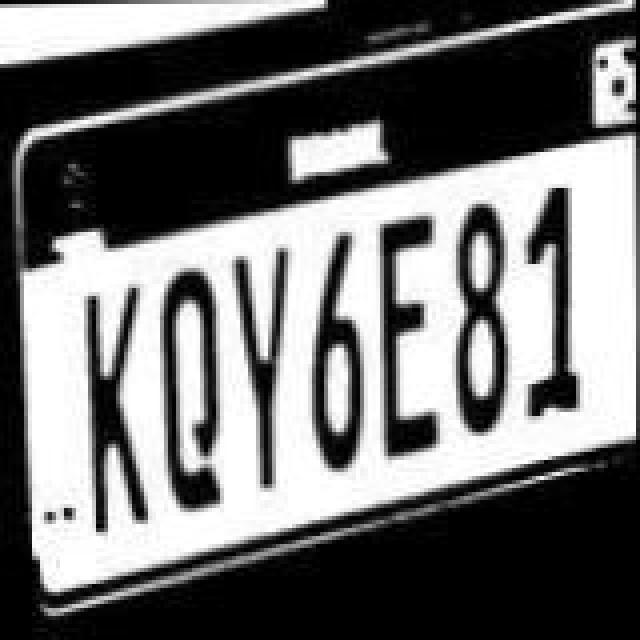1: (520, 176, 588, 440)
6: (302, 224, 366, 492)
8: (446, 192, 510, 456)
E: (376, 204, 444, 476)
K: (84, 272, 156, 552)
Q: (158, 254, 226, 530)
Y: (230, 234, 294, 506)
